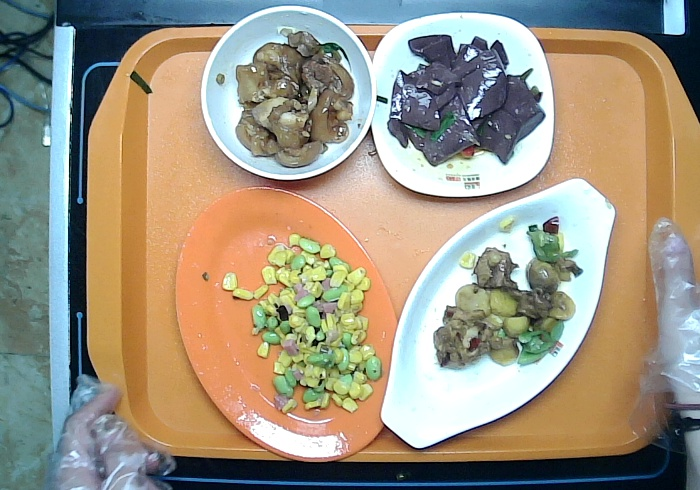NLDX-Bai_Se_Xiao_Fang_Die: (368, 11, 555, 199)
NLDX-Fan_Wan: (199, 4, 378, 182)
NLDX-Ju_Se_Pan: (174, 186, 402, 464)
NLDX-Yu_Pan: (378, 176, 618, 448)
